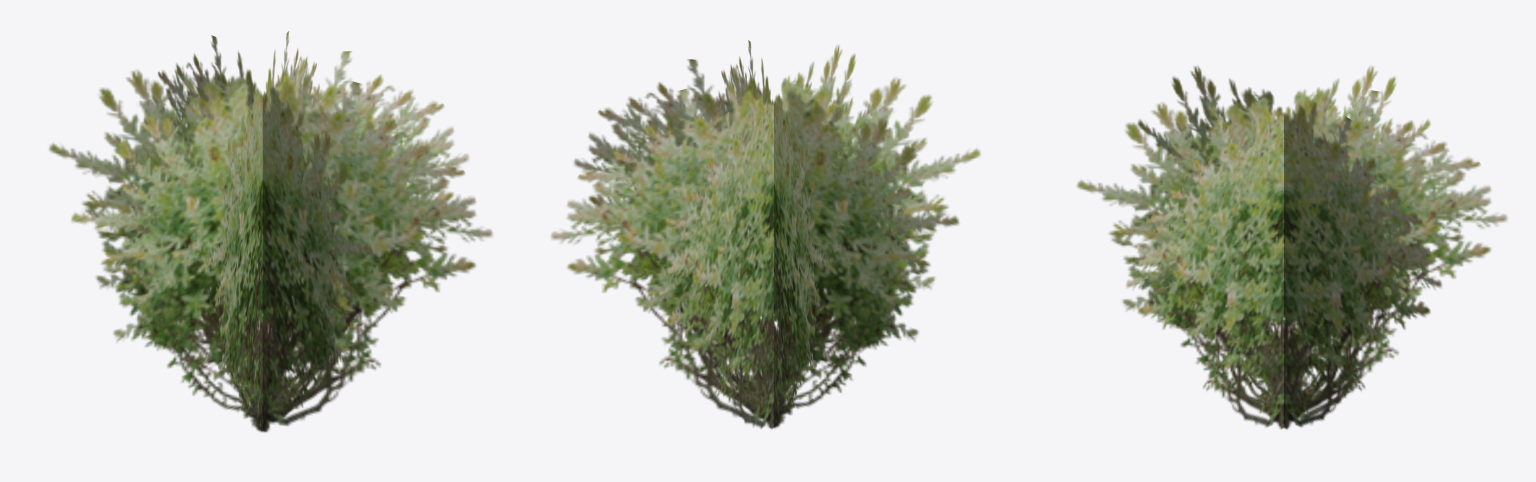
The model's file is Bush_03.glb.
3 views of the same model, side by side, from view 1: azimuth 30°, elevation 25°; view 2: azimuth 150°, elevation 25°; view 3: azimuth 270°, elevation 25° (orthographic). The views are drawn at different scales.
Parts seen in each view (by area): view 1: Bush 03; view 2: Bush 03; view 3: Bush 03.
Part boxes in pixels (left/top/right/bottom): Bush 03: left=49, top=31, right=492, bottom=432; Bush 03: left=551, top=40, right=980, bottom=429; Bush 03: left=1077, top=66, right=1507, bottom=429.
Size of what is drawn, in the model's own units: 2.09 by 1.85 by 2.09.
1 material, 1 textured.
